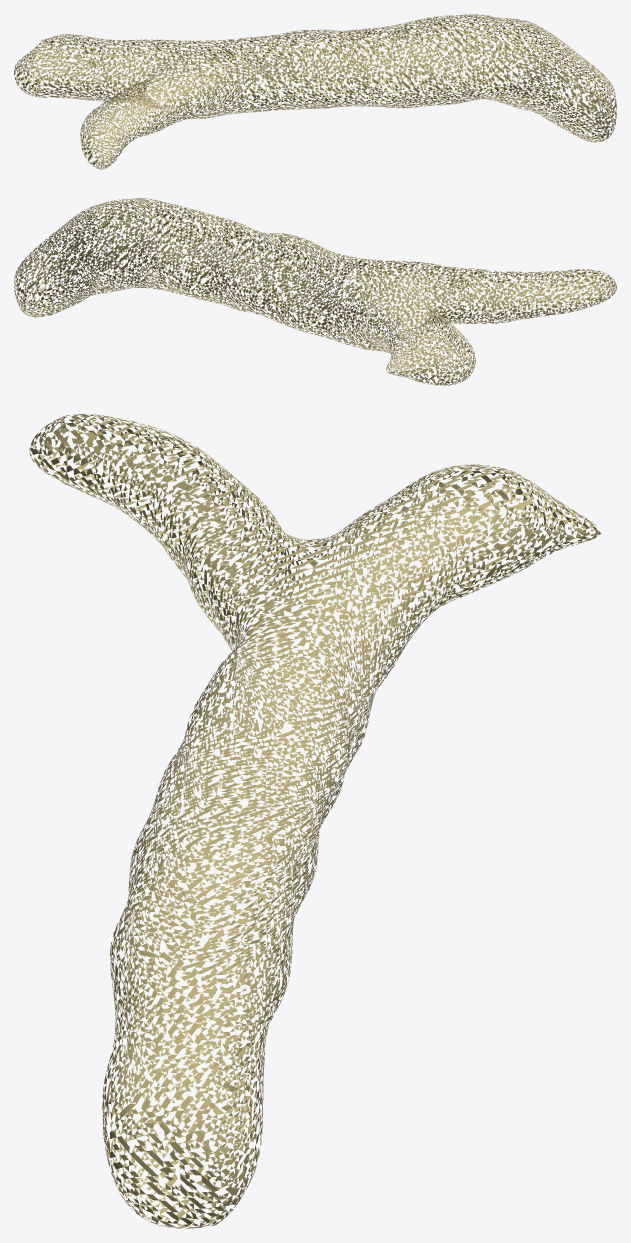
File: morph_008.glb
The picture shows the model from 3 angles, top to bottom: view 1: azimuth 30°, elevation 25°; view 2: azimuth 150°, elevation 25°; view 3: azimuth 270°, elevation 25°; orthographic projection. The views are drawn at different scales.
Size of the model in its own units: 139 by 37.08 by 62.17.
